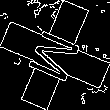M_SE: (23, 24, 87, 86)
